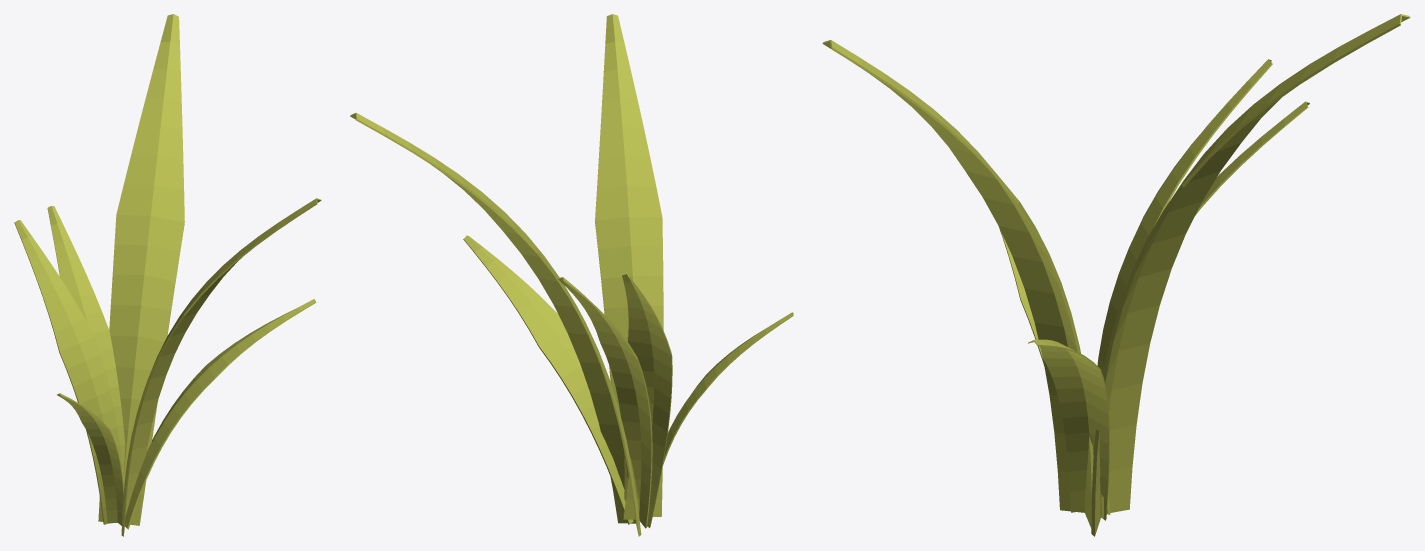
File: grass_02.fbx
3 renders of one model, left to right at view 1: azimuth 30°, elevation 25°; view 2: azimuth 150°, elevation 25°; view 3: azimuth 270°, elevation 25°, orthographic. The views are drawn at different scales.
Visible parts, largest first — view 1: Cube.021; view 2: Cube.021; view 3: Cube.021.
Boxes of the visible parts, x1,y1,x2,y2 form: Cube.021: (14, 14, 321, 536); Cube.021: (350, 14, 793, 536); Cube.021: (822, 14, 1410, 536).
Size of the model in its own units: 51.67 by 72.56 by 62.08.
